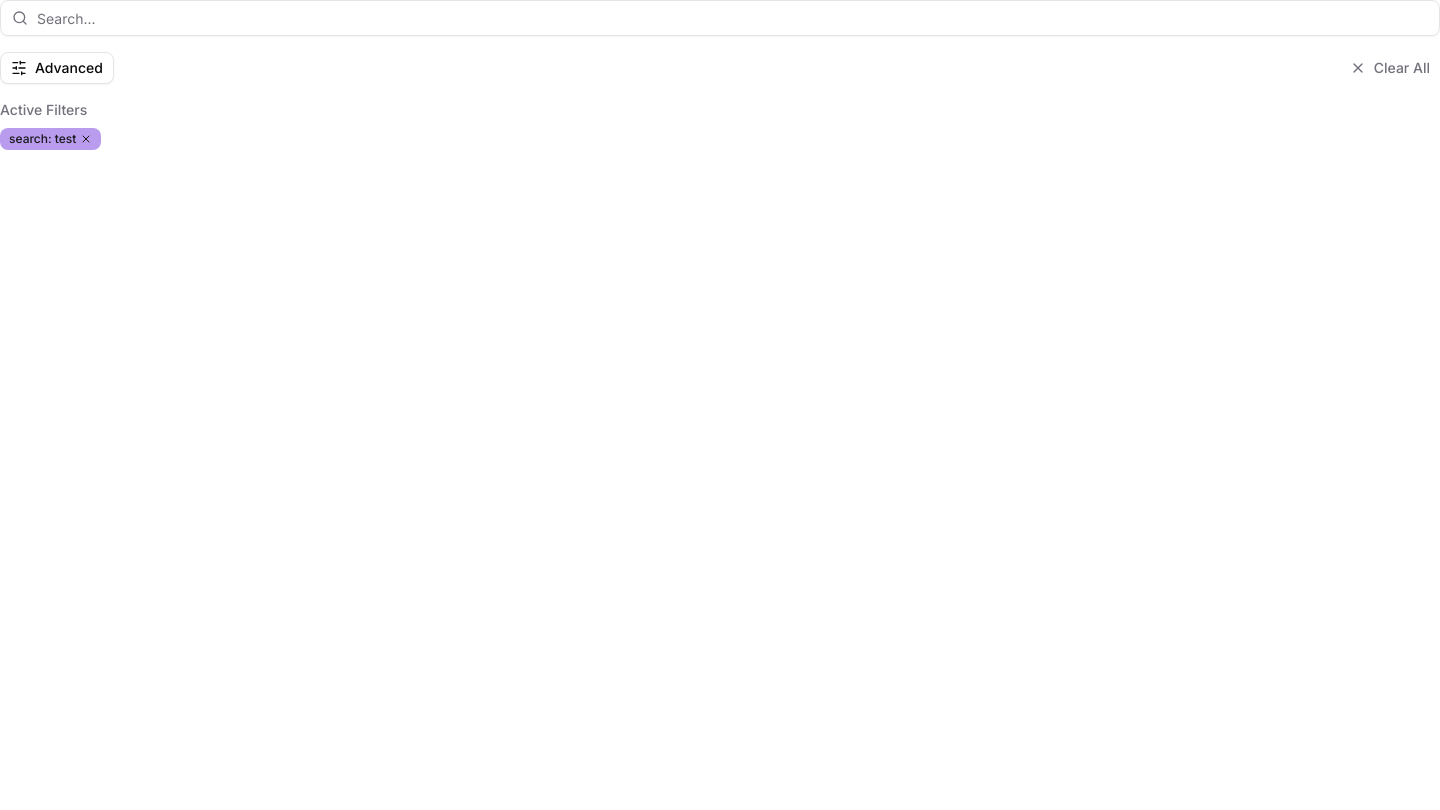
Scenario: FilterControls › opens advanced filters popover
Click the button "Advanced" at (57, 68), box 0,52 -> 114,84
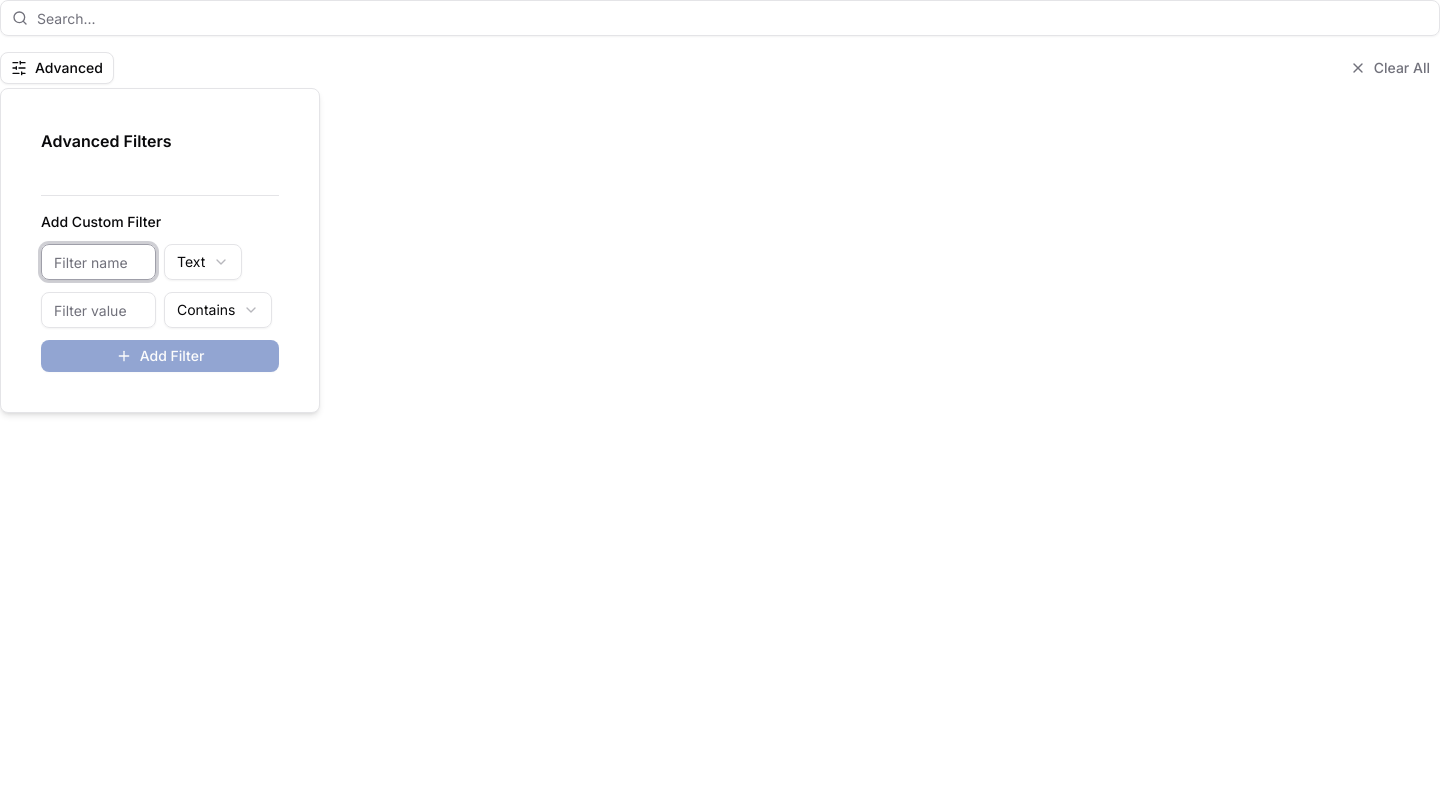
Check: the text "Advanced Filters" is shown, box 41,131 -> 172,151
Check: the text "Add Custom Filter" is shown, box 41,213 -> 161,230
